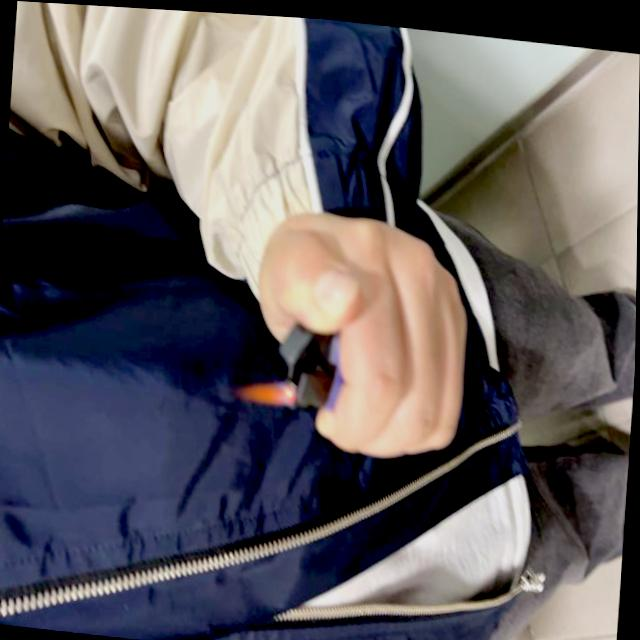Fire: (236, 376, 295, 411)
